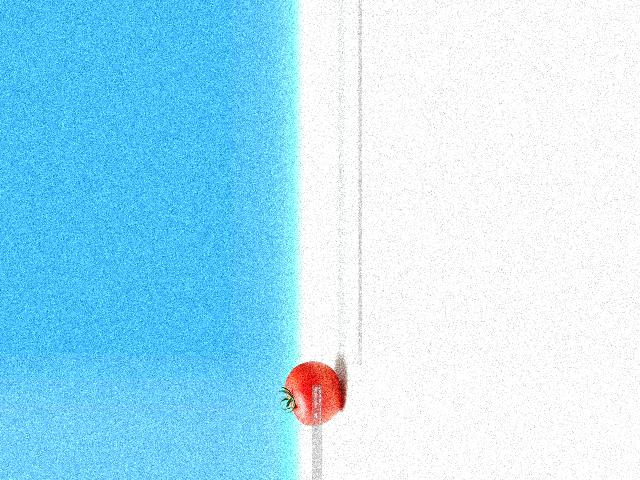tomato: (285, 362, 340, 427)
